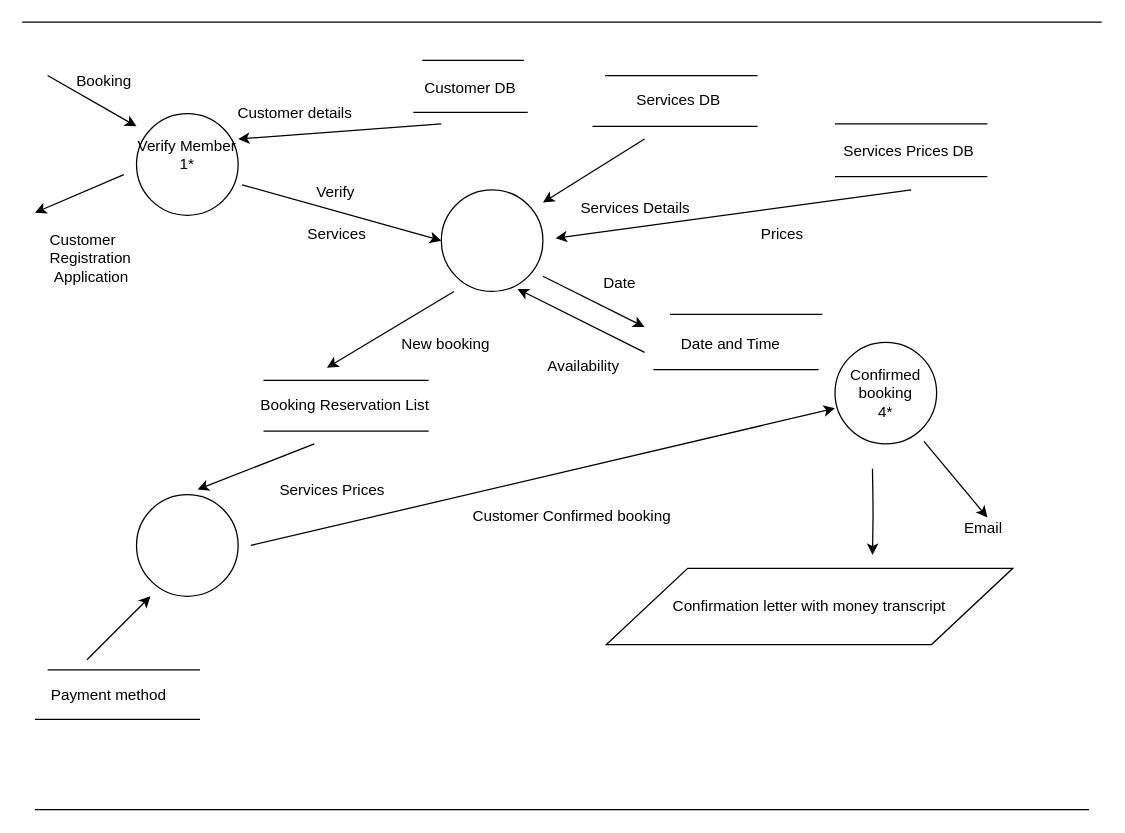
This 1125x833 diagram has some shape labels left out. The shapes that lost their labels are listed below. From the top down, each one's centre as x and y in pixels, then its label:
At pixel 491 240: "Check Services 2*".
At pixel 186 544: "Payment 3".
